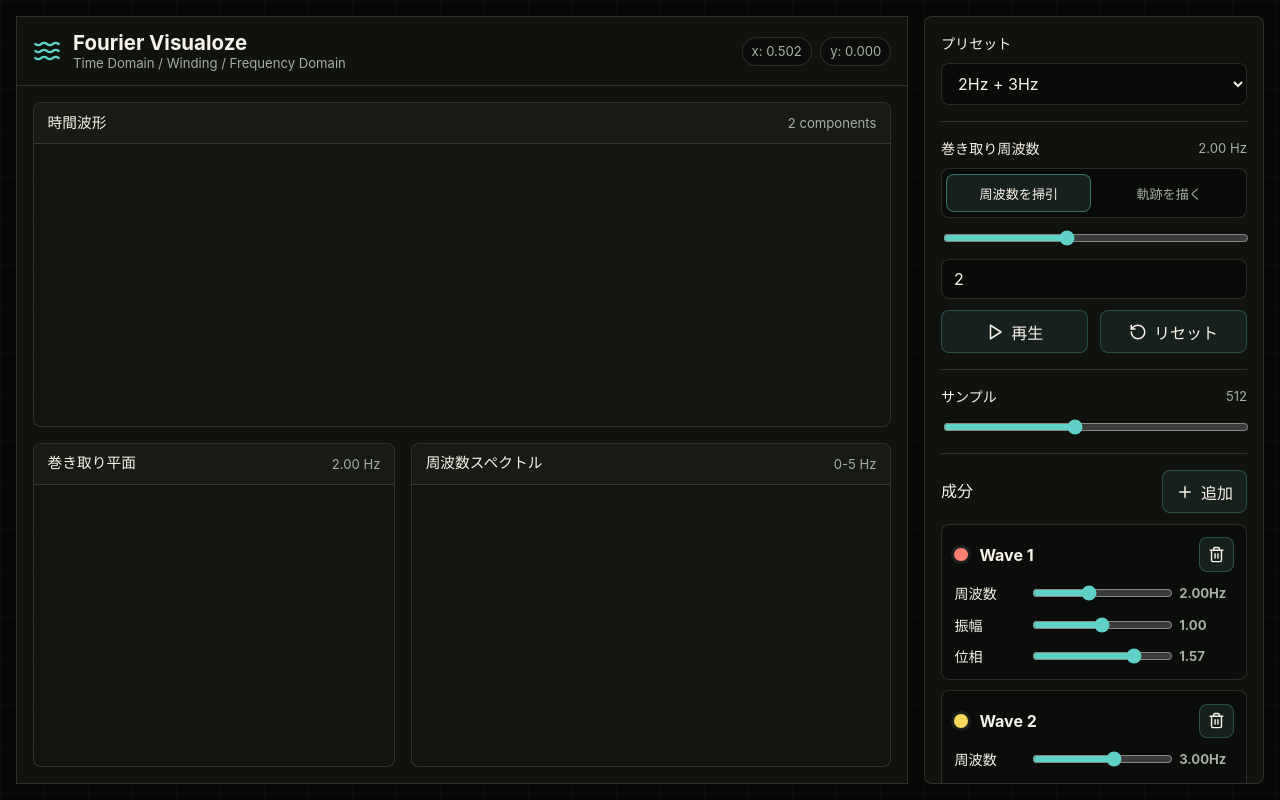
App › updates the selected winding frequency from the slider
Step 1. Replace the text in the number field named "巻き取り周波数の数値" with "3" → x=1094, y=279, box [941,259,1247,300]
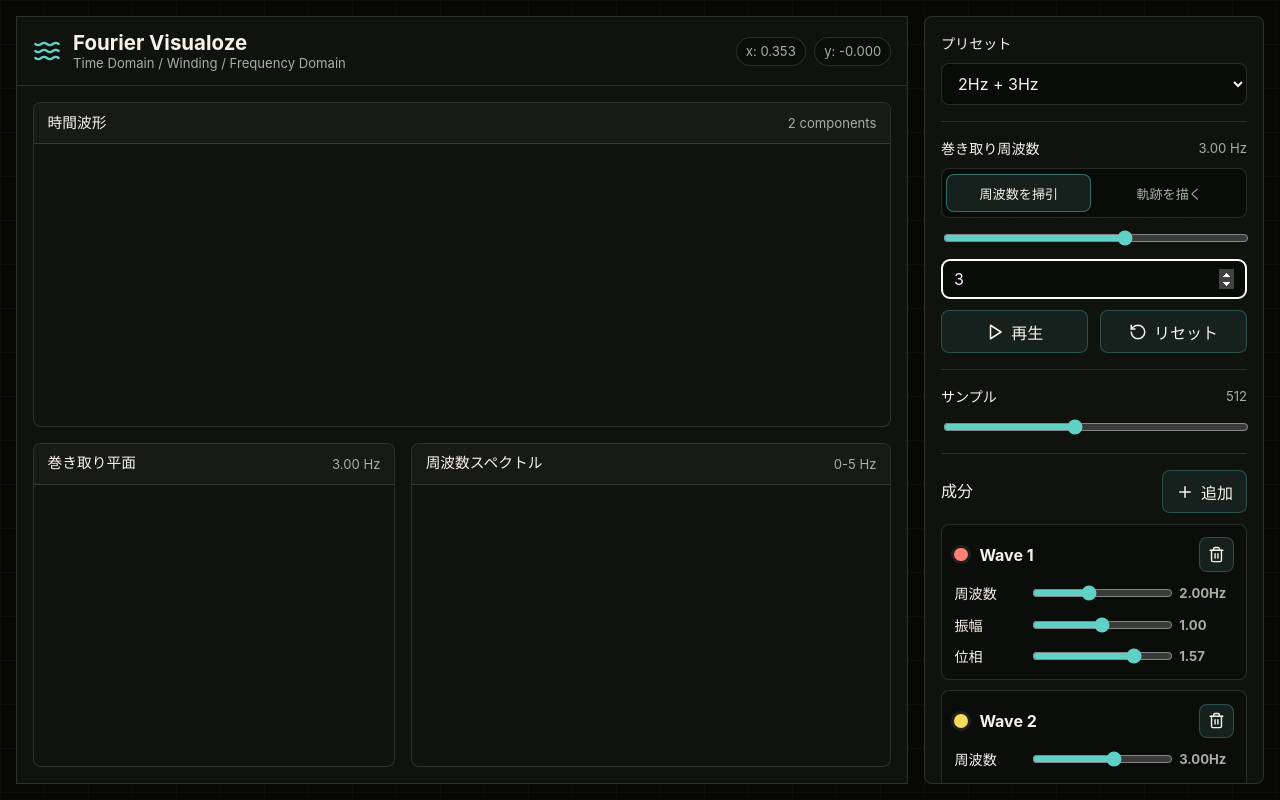
expect the slider labelled "巻き取り周波数" holds "3": met
Step 2. Set the slider labelled "巻き取り周波数" to "4.5" → x=1212, y=238, box [943,230,1249,246]
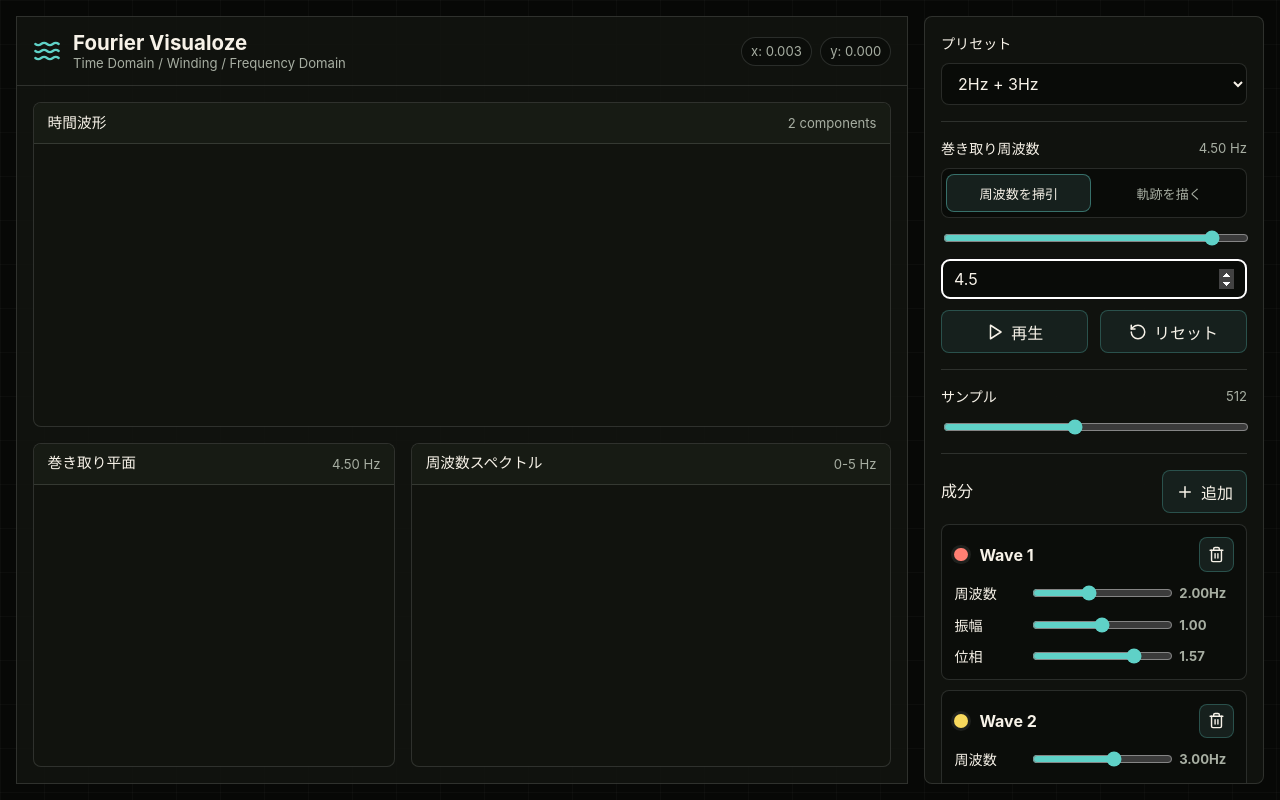
expect the number field named "巻き取り周波数の数値" holds "4.5": met, box [941,259,1247,300]
